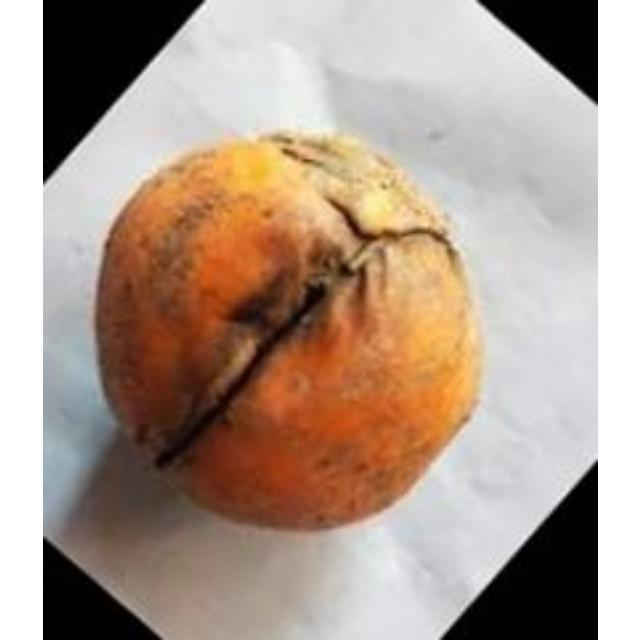damaged: (92, 130, 485, 536)
